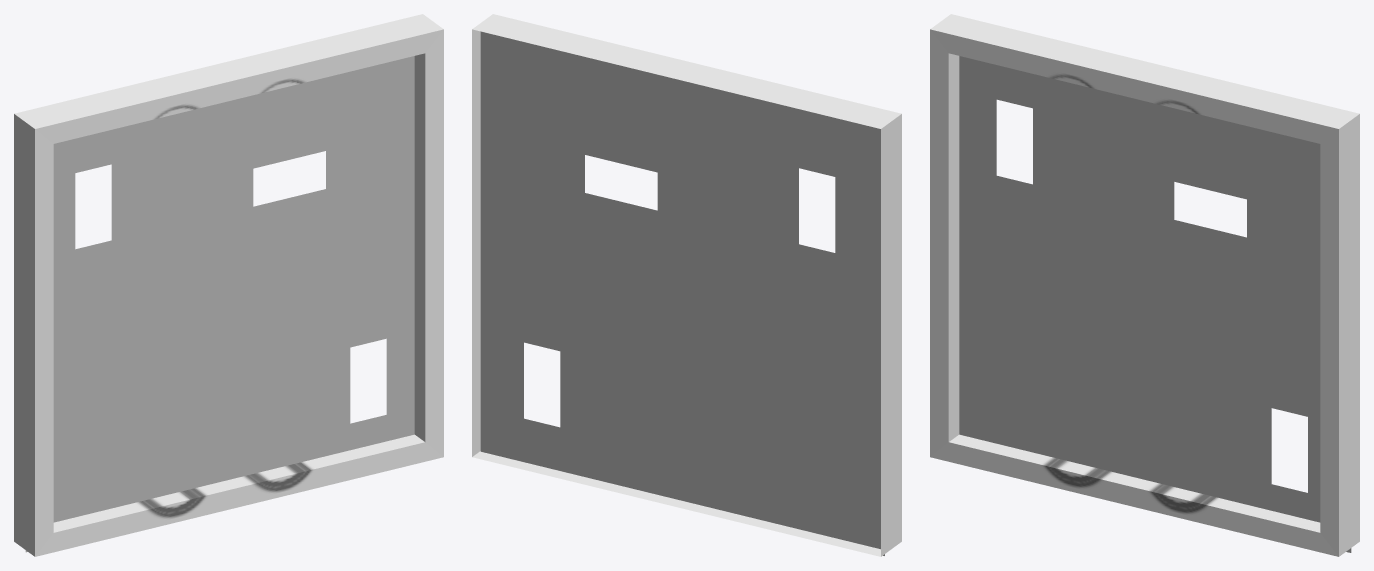
Rendered from floor180x180b_wtf.obj.
3 renders of one model, left to right at view 1: azimuth 30°, elevation 25°; view 2: azimuth 150°, elevation 25°; view 3: azimuth 330°, elevation 25°, orthographic.
Visible parts, largest first — view 1: group3, group2; view 2: group3, group2; view 3: group3, group2.
Part boxes in pixels (x1,y1,x2,y2): group3: (25, 56, 414, 552); group2: (14, 14, 443, 556); group3: (480, 31, 884, 555); group2: (472, 14, 901, 556); group3: (959, 56, 1351, 552); group2: (930, 14, 1359, 556).
Bounding box in the file's own units: 651 × 660 × 57.86.
